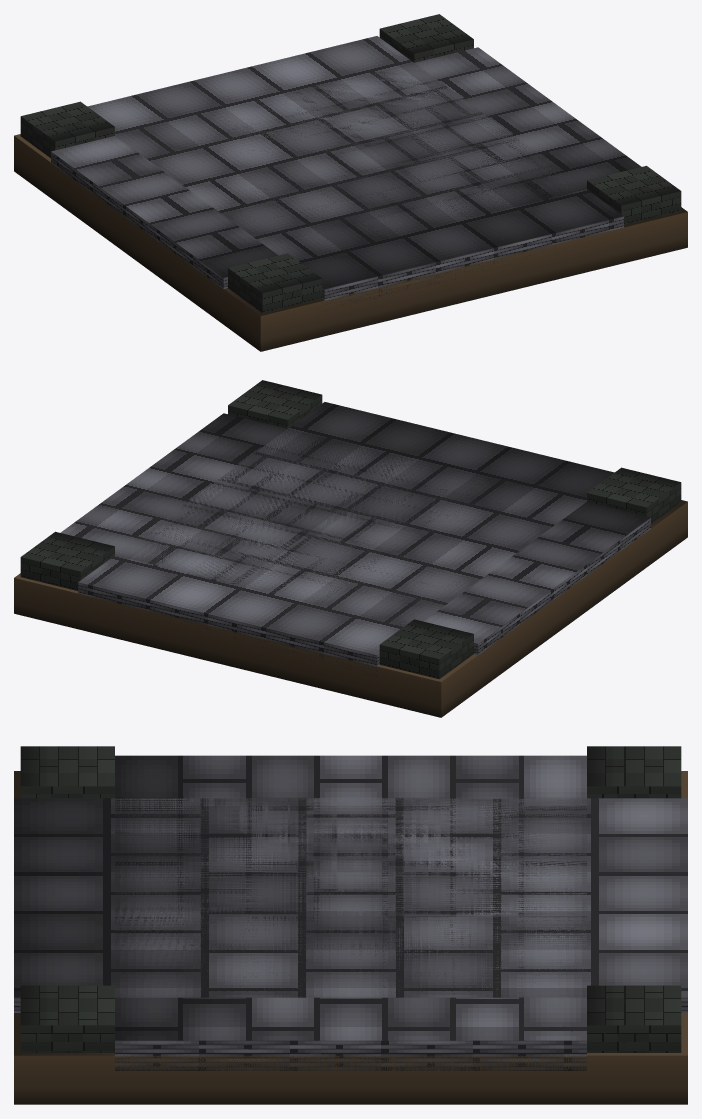
File: road_cross.gltf
3 views of the same model, one above another, from view 1: azimuth 30°, elevation 25°; view 2: azimuth 150°, elevation 25°; view 3: azimuth 270°, elevation 25° (orthographic). The views are drawn at different scales.
Visible parts, largest first — view 1: road_cross; view 2: road_cross; view 3: road_cross.
Part boxes in pixels (box(x1,y1,x2,y2)): road_cross: box(14, 14, 687, 351); road_cross: box(14, 380, 687, 717); road_cross: box(14, 746, 687, 1104).
Bounding box in the file's own units: 1 × 0.125 × 1.
1 material, 1 textured.
